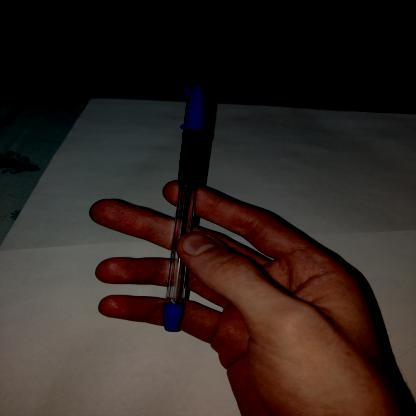Pen: (167, 74, 205, 367)
